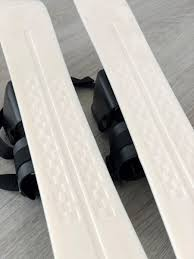skis: (1, 1, 194, 259)
